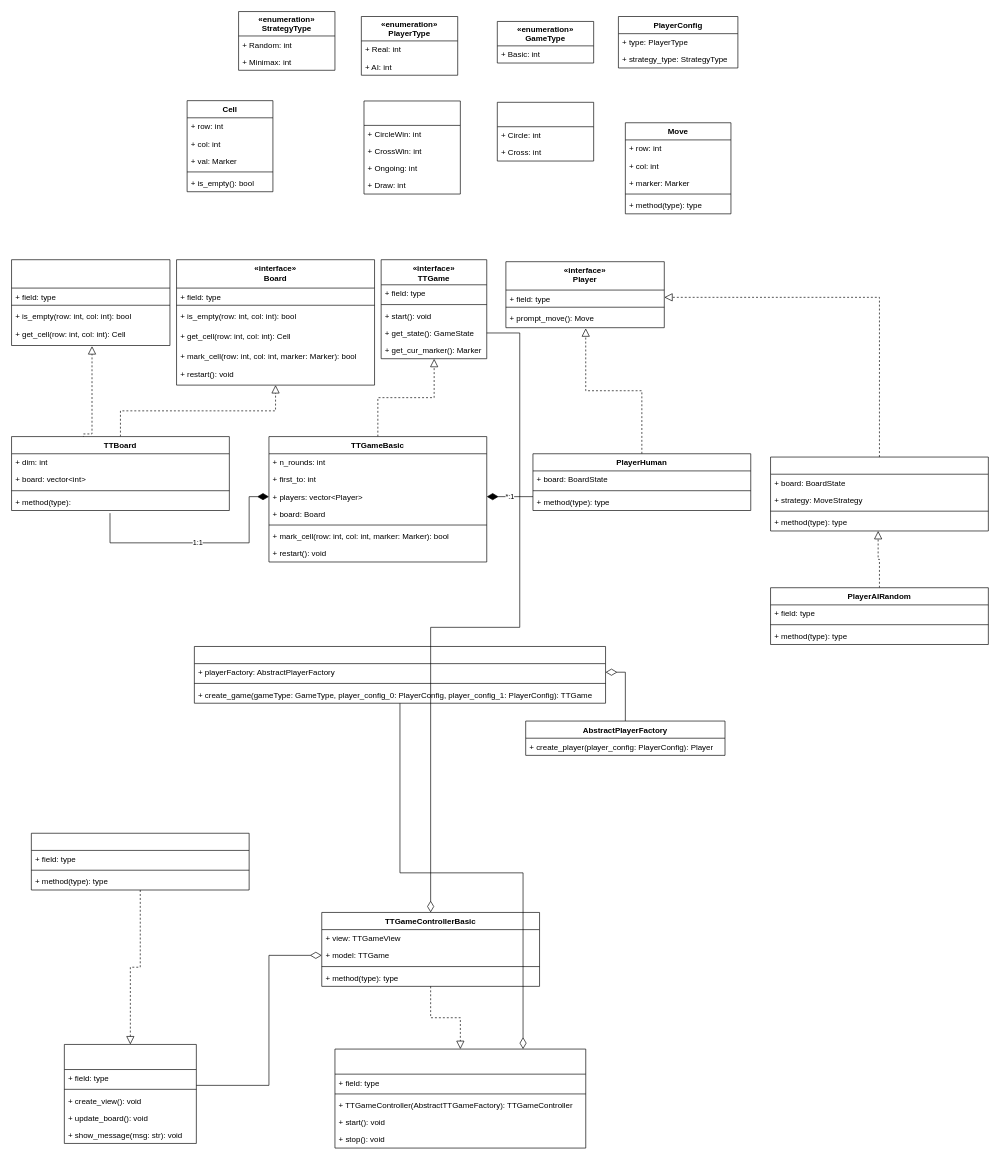
Image size: 1000x1162. Some labels were removed from this diagram. The shapes that lost their labels are listed below. From the top down, each one's box as (x1, y1, x2, y2) in pixels, then its label:
(363, 100, 460, 194): «enumeration» TTGameState
(497, 102, 594, 161): «enumeration» Marker
(11, 259, 170, 346): «interface» BoardState
(770, 456, 988, 531): AbstractPlayerAI
(194, 646, 606, 703): AbstractTTGameFactory
(31, 833, 249, 890): TTGameViewTerminal
(64, 1044, 196, 1143): «interface» TTGameView
(334, 1048, 586, 1148): «interface» GameController
